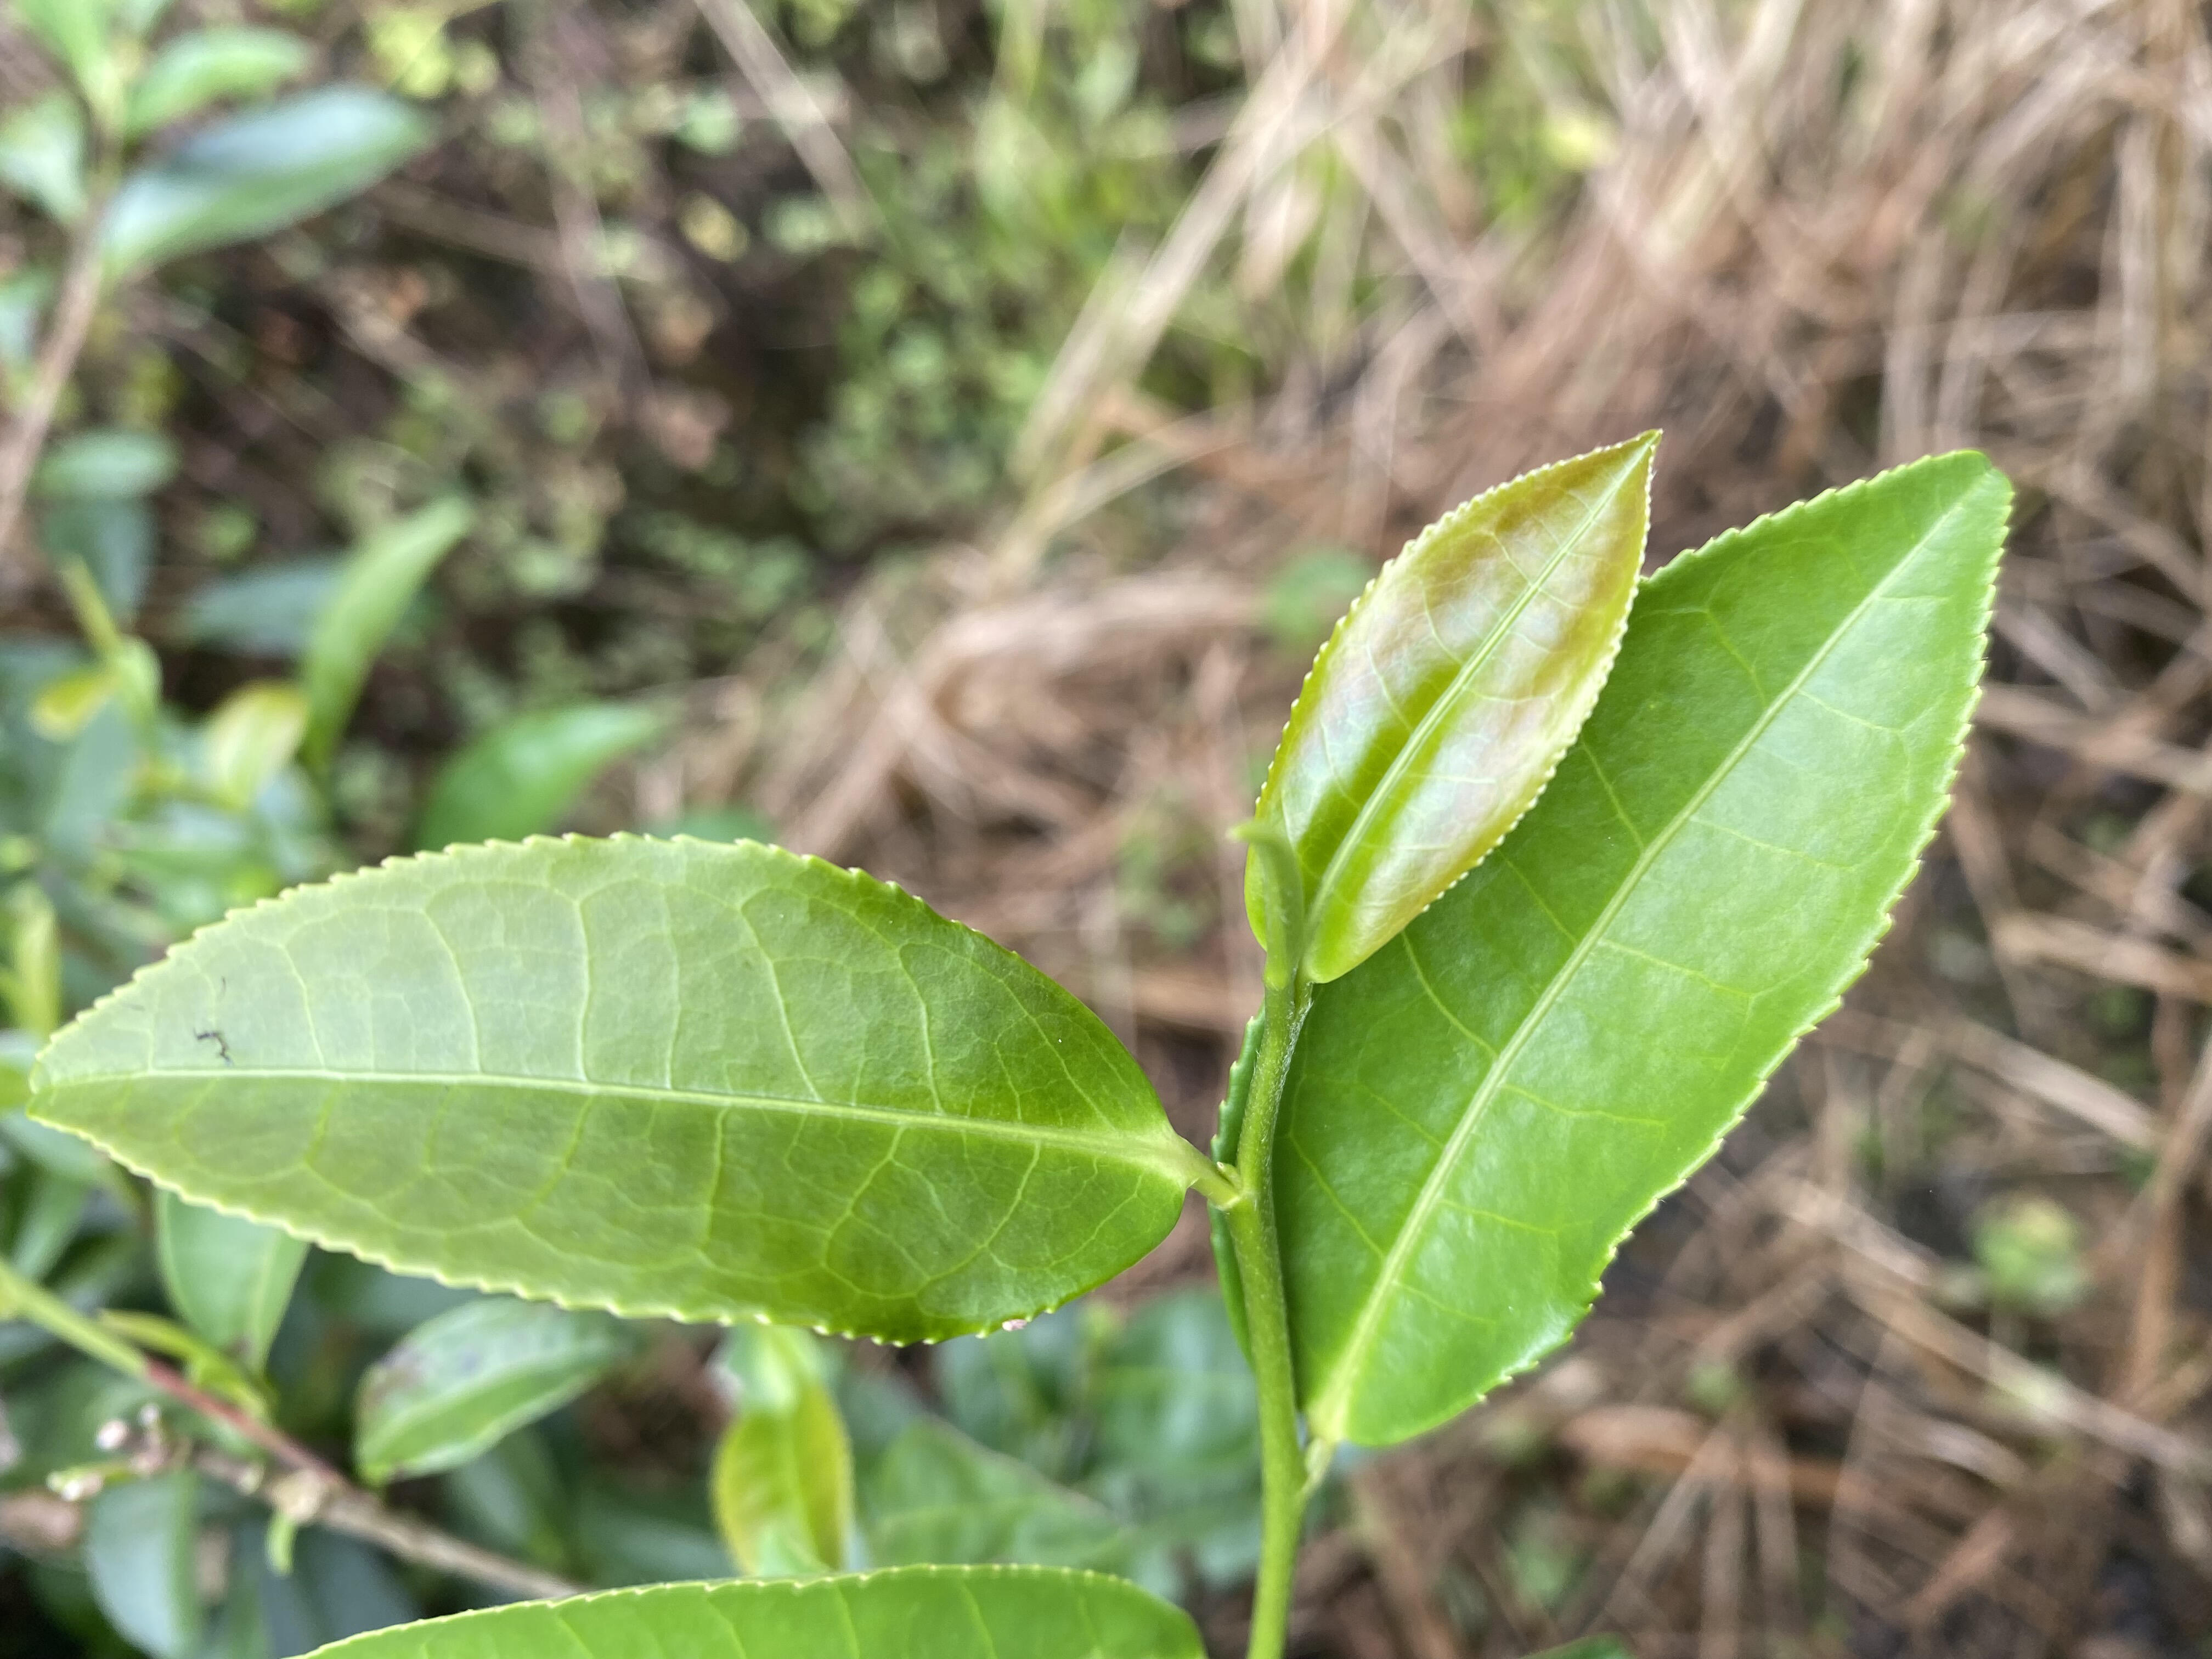healthy: (1209, 450, 2013, 1445), (24, 830, 1190, 1354), (1240, 427, 1665, 985)
